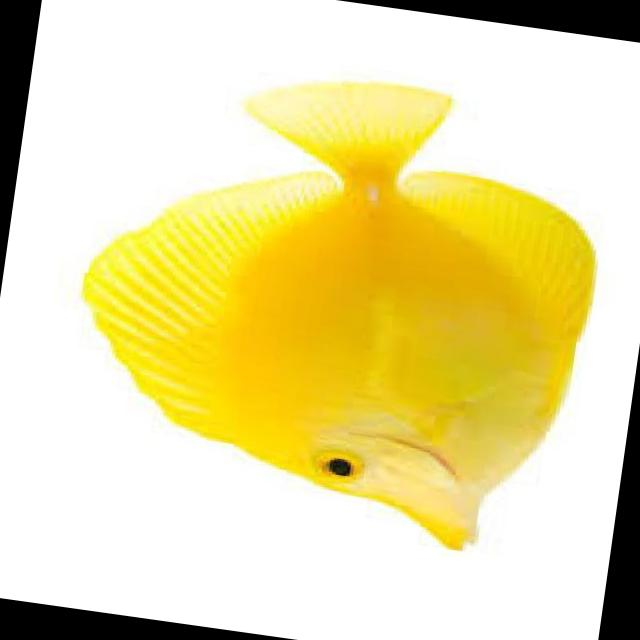YellowTang: (52, 32, 623, 568)
